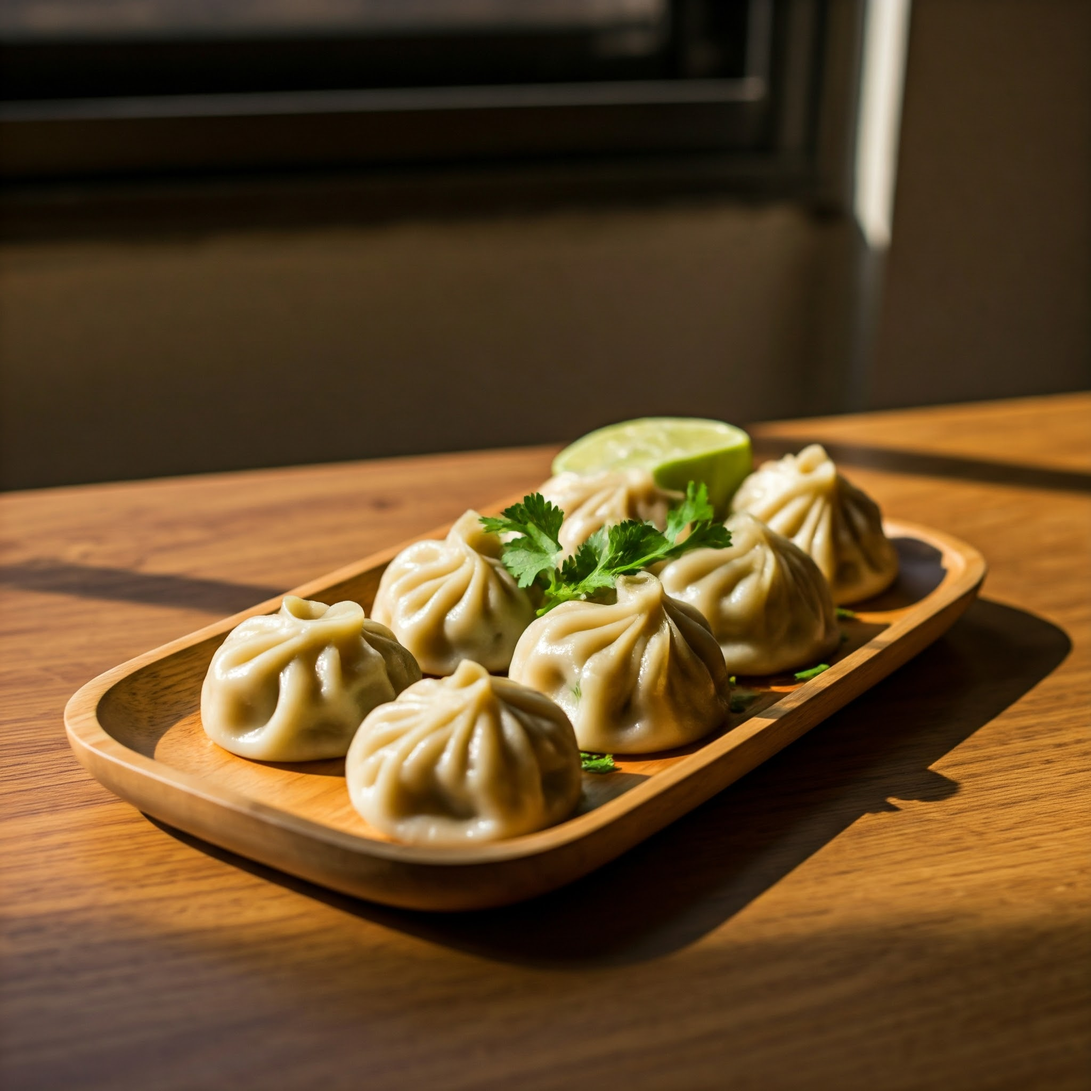momo: (346, 658, 581, 866), (522, 591, 738, 756), (194, 594, 416, 751), (727, 442, 892, 610), (365, 517, 543, 658), (663, 533, 823, 679), (543, 463, 706, 543)
